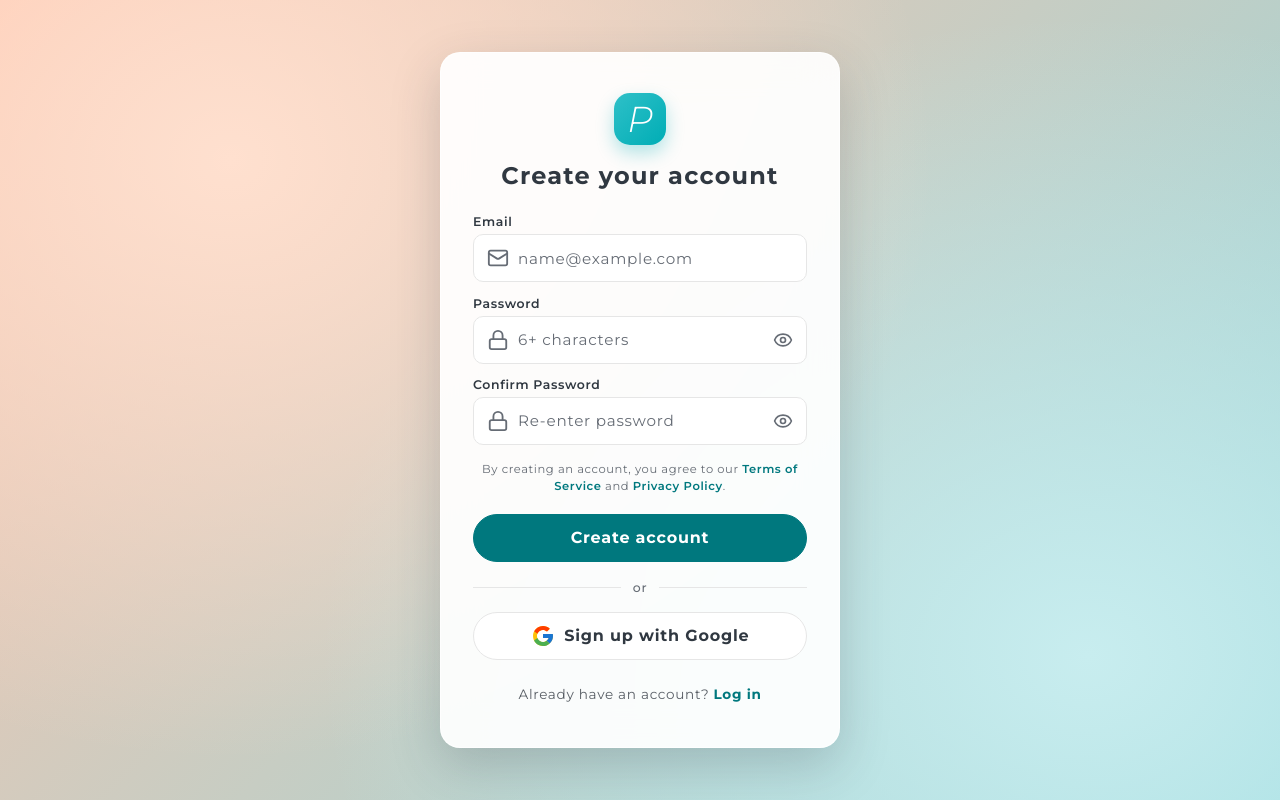
Test: Signup confirm-password validation › renders the friendly error the auth layer reports in the live banner
Type "a@b.com" into the field labelled "Email" at (640, 258), box [473,234,807,282]
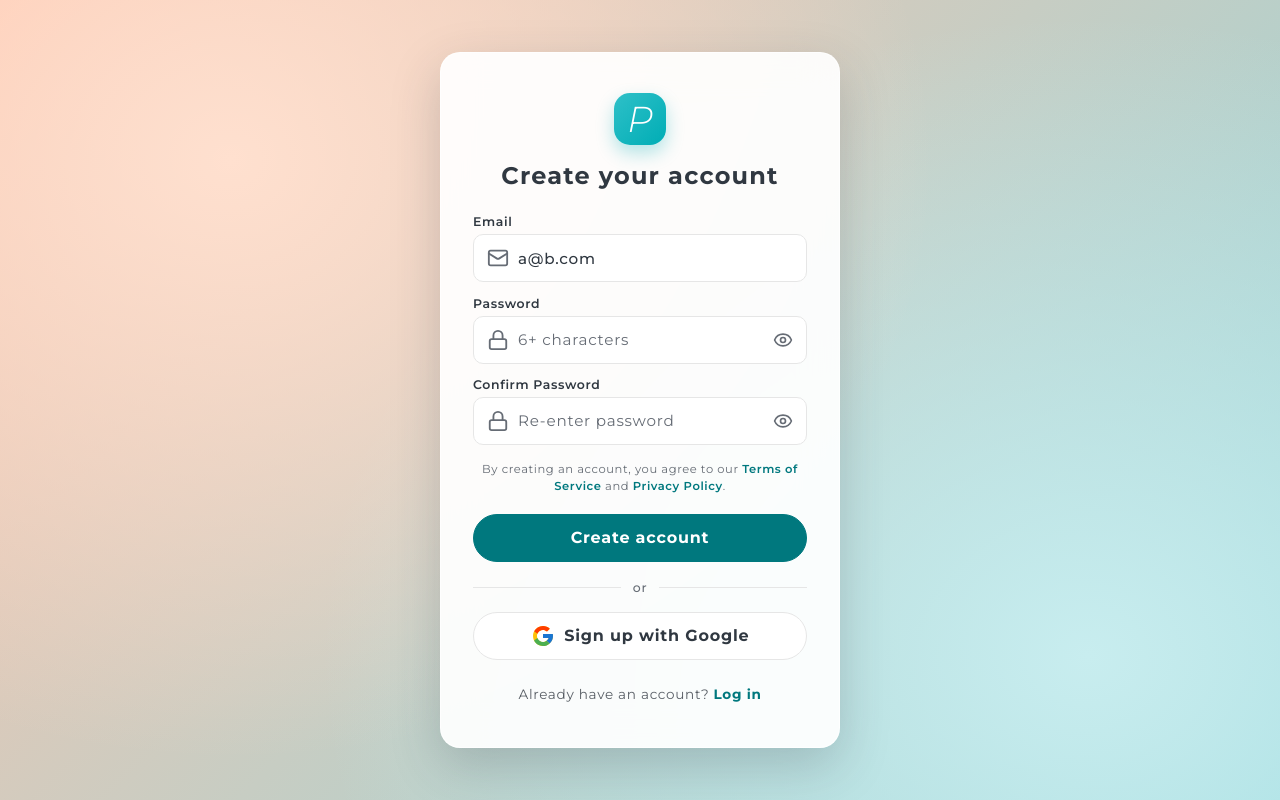
Type "abc123" into the password field labelled "Password" at (640, 340), box [473,316,807,364]
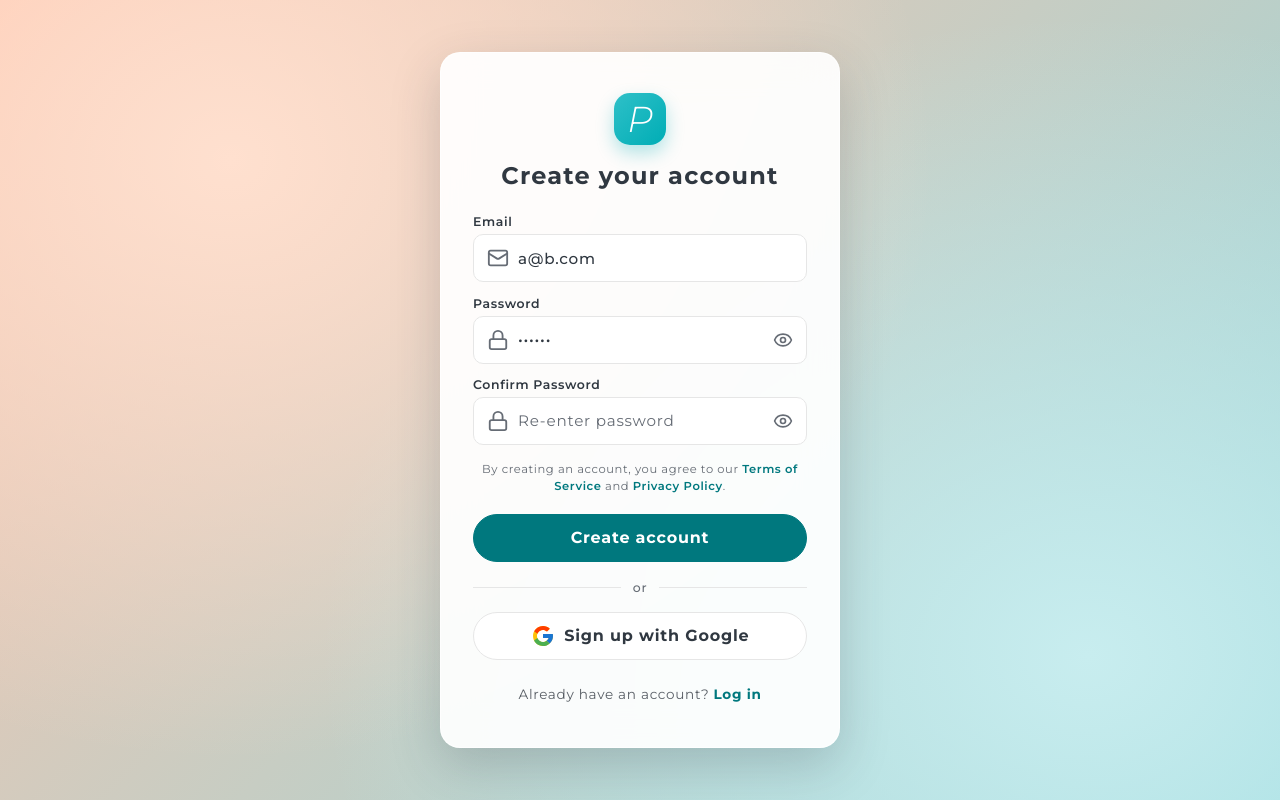
Type "abc123" into the password field labelled "Confirm password" at (640, 421), box [473,397,807,445]
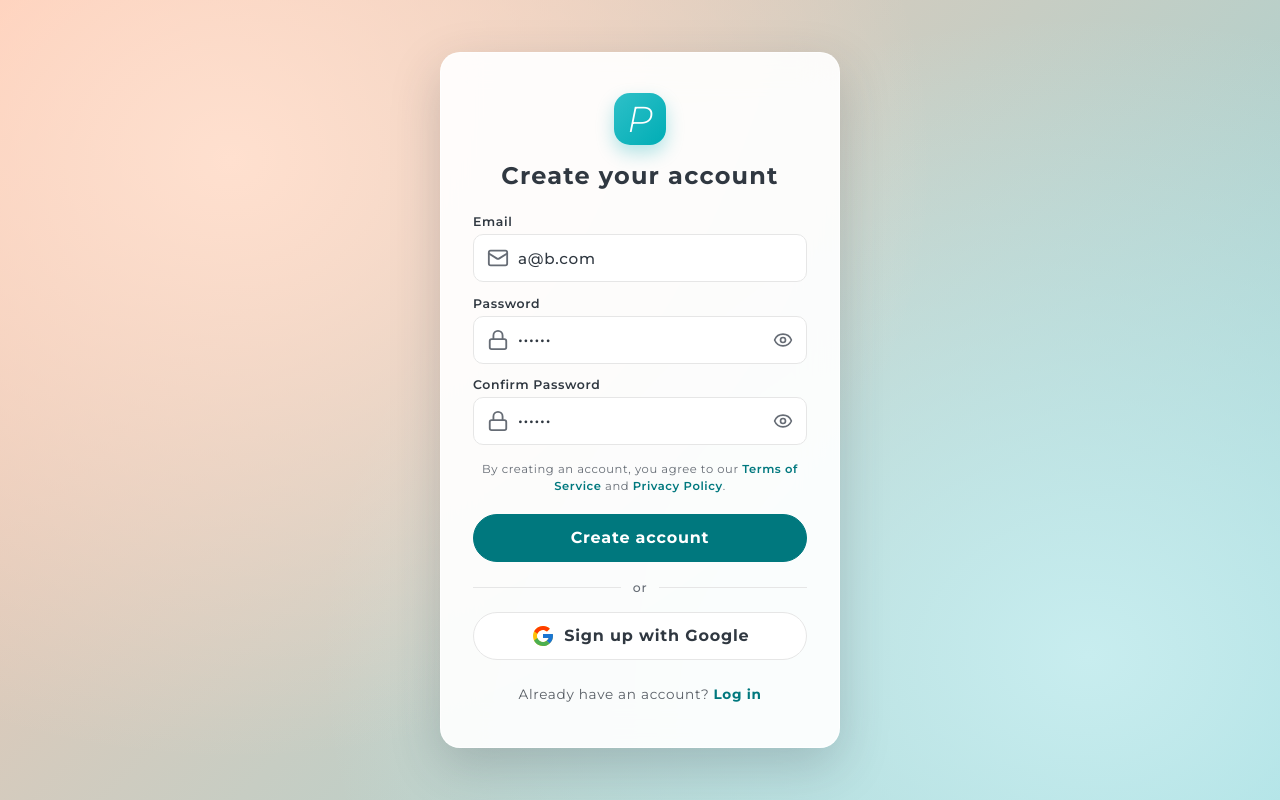
Click the button "Create account" at (640, 538), box [473,514,807,562]
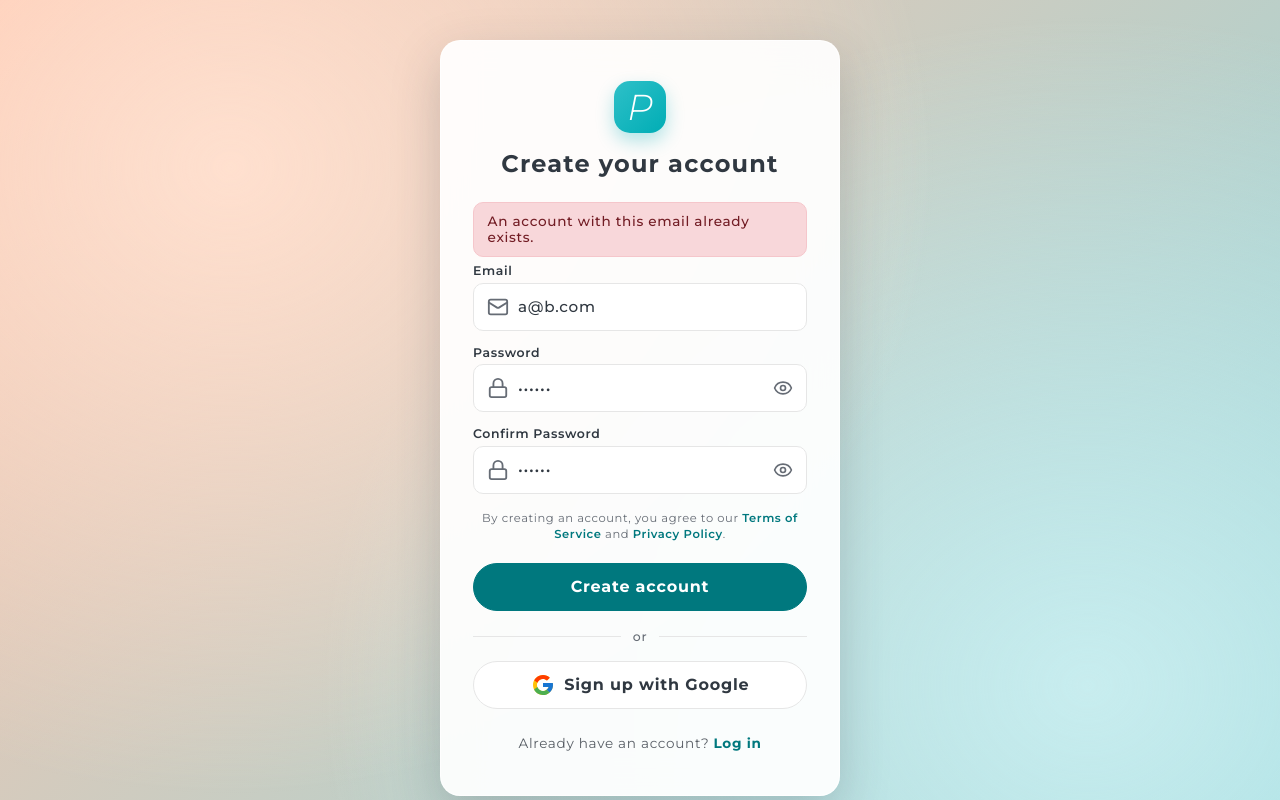
Result: the text "An account with this email already exists." is shown at [473,202,807,257]
